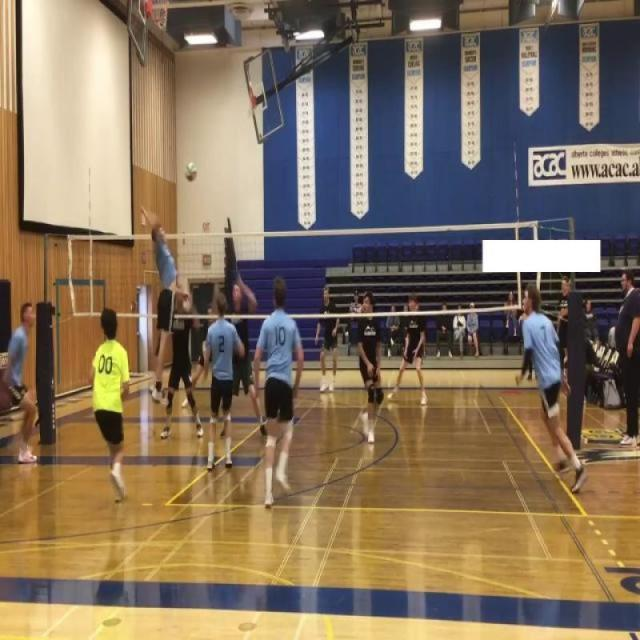volleyball: (185, 161, 198, 183)
